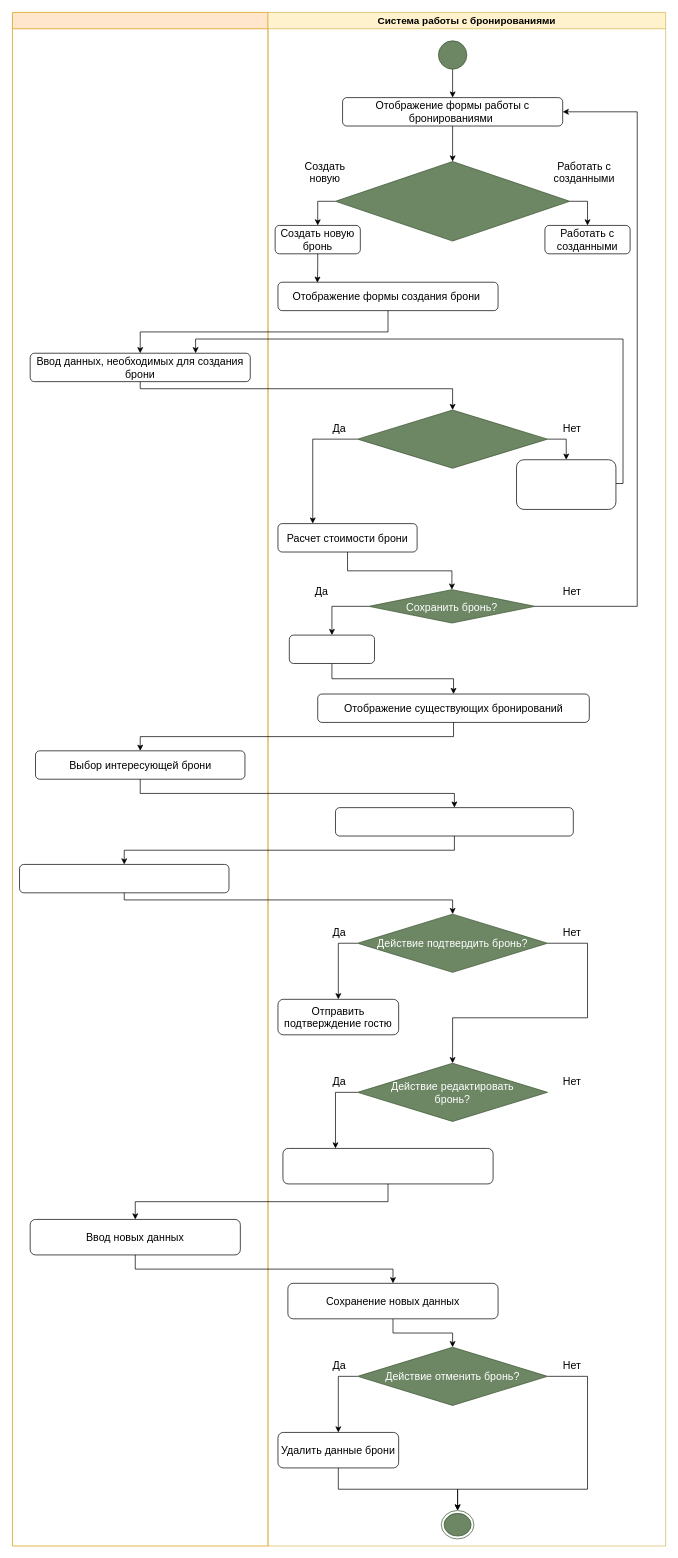
The diagram is 678 pixels wide and 1558 high, and some of its shapes have lost their labels. Here are the shapes that lost their labels. From the top down, the box of each, then its label:
(335, 161, 570, 241): Создать новую бронь или работать с уже созданными?
(357, 409, 548, 468): Данные введены верно?
(516, 459, 616, 509): Выведение информации об ошибках
(289, 634, 375, 663): Сохранение брони
(12, 12, 268, 1546): Администратор отеля
(335, 807, 573, 836): Отображение информации о брони
(19, 864, 229, 893): Выбор действия с бронью: редактировать, отменить, подтвердить
(282, 1148, 493, 1184): Вывести окно для редактирования данных
